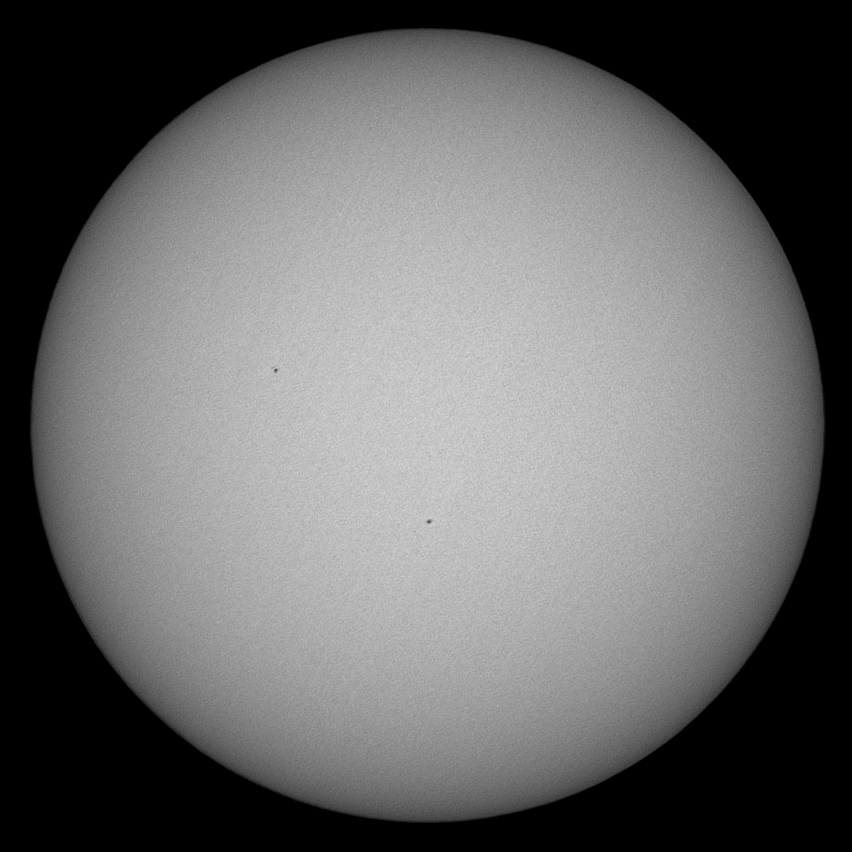sunspot: (423, 514, 437, 529), (269, 363, 282, 377)
